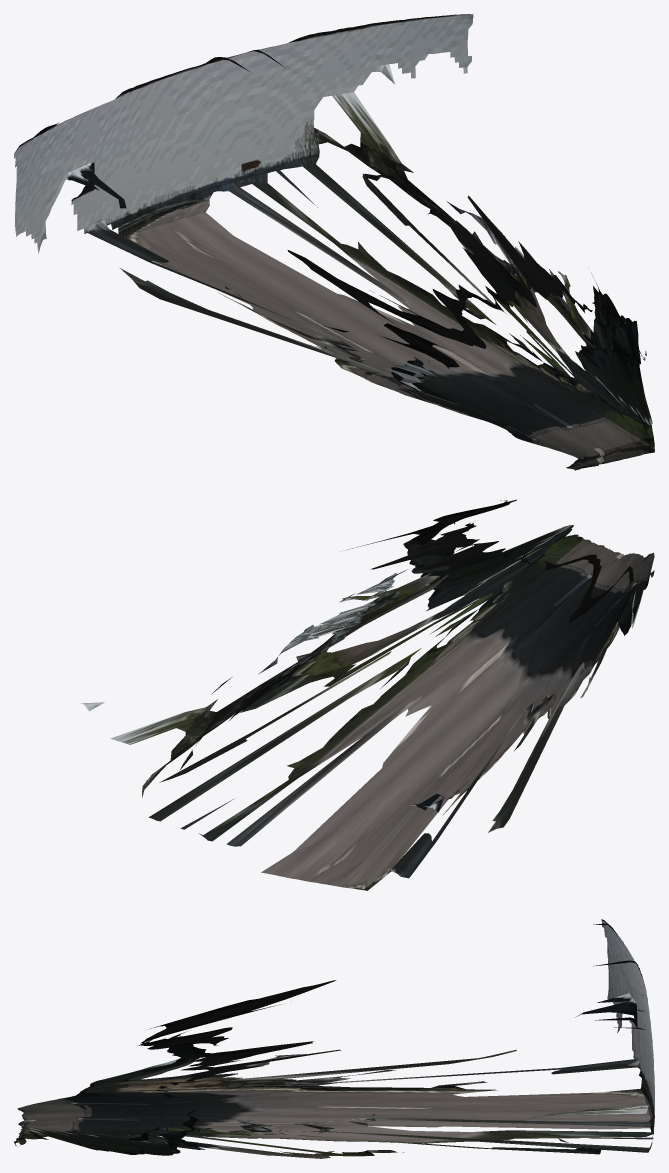
3 renders of one model, top to bottom at view 1: azimuth 30°, elevation 25°; view 2: azimuth 150°, elevation 25°; view 3: azimuth 270°, elevation 25°, orthographic. The views are drawn at different scales.
Parts seen in each view (by area): view 1: defaultobject; view 2: defaultobject; view 3: defaultobject.
Part boxes in pixels (<box>): defaultobject: <box>14,14,654,470</box>; defaultobject: <box>81,499,654,890</box>; defaultobject: <box>14,919,654,1158</box>.
Bounding box in the file's own units: 32.04 × 10.49 × 44.46.
Materials: 1 (1 with a texture image).
